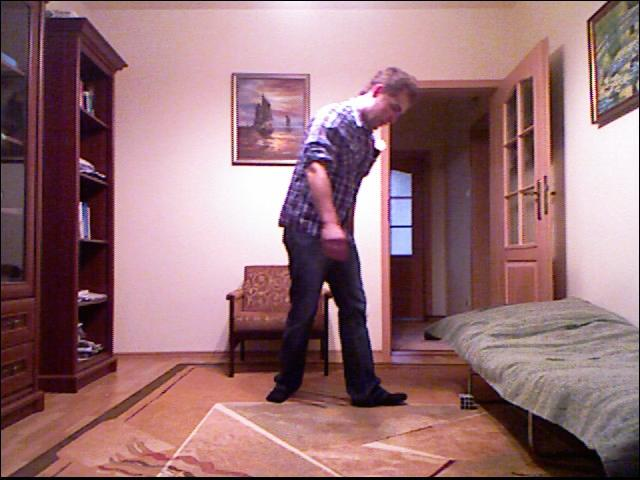bending: (267, 40, 420, 423)
